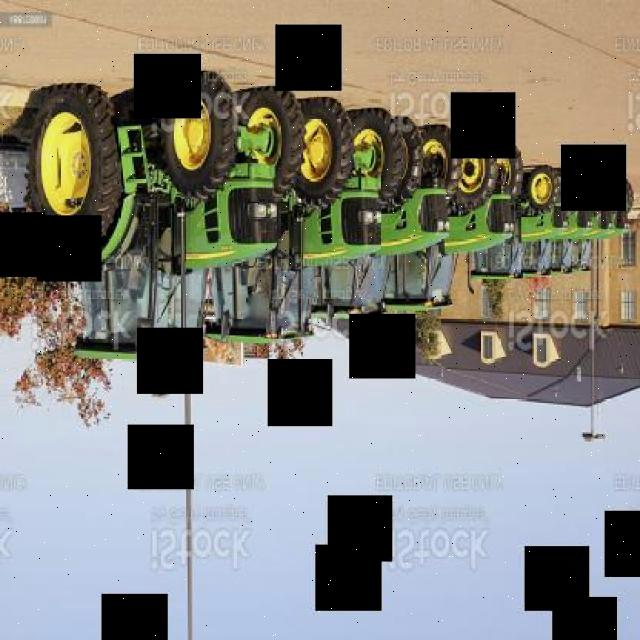Tratores - v5 YOLO V8L 2024-11-13: (19, 15, 308, 363), (206, 83, 406, 388), (317, 99, 463, 348), (388, 120, 530, 338)
